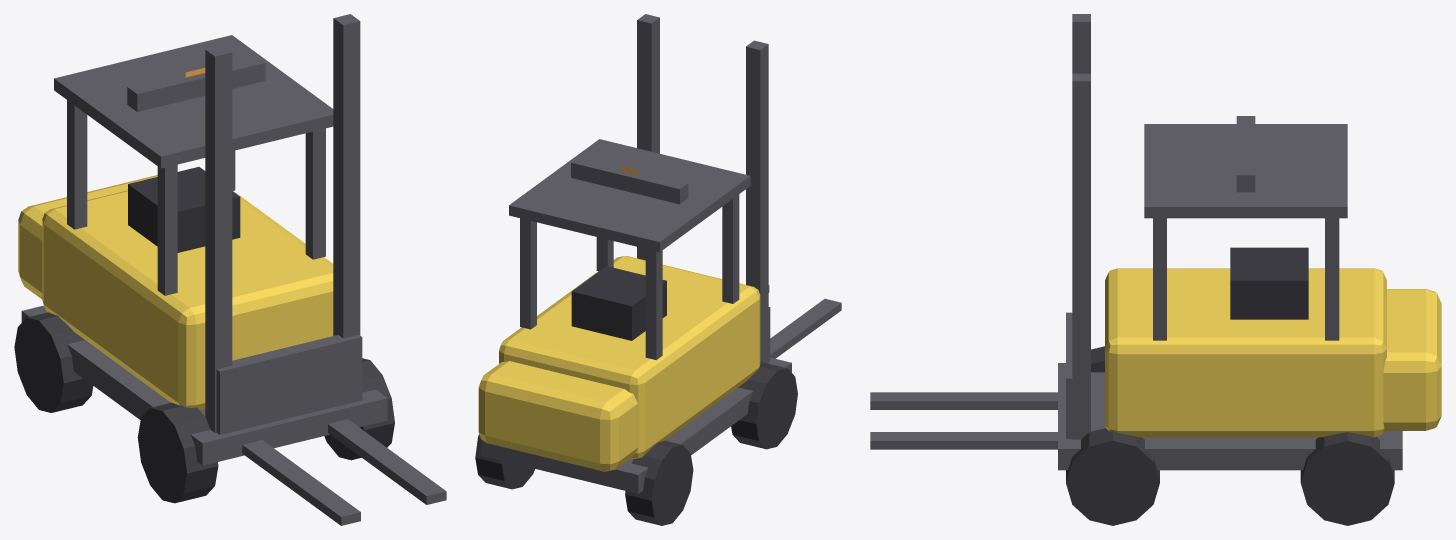
Rendered from bt-hw-forklift.glb.
3 renders of one model, left to right at view 1: azimuth 30°, elevation 25°; view 2: azimuth 150°, elevation 25°; view 3: azimuth 270°, elevation 25°, orthographic. The views are drawn at different scales.
Parts seen in each view (by area): view 1: bt-hw-forklift_body, bt-hw-forklift_cabroof, bt-hw-forklift_carriage, bt-hw-forklift_mast-1, bt-hw-forklift_mast1, bt-hw-forklift_base, bt-hw-forklift_wh-0.62_0.75, bt-hw-forklift_wh-0.62_-0.75, bt-hw-forklift_seat, bt-hw-forklift_fork-1, bt-hw-forklift_fork1, bt-hw-forklift_lightbar (+5 smaller); view 2: bt-hw-forklift_body, bt-hw-forklift_cabroof, bt-hw-forklift_rear, bt-hw-forklift_mast-1, bt-hw-forklift_base, bt-hw-forklift_seat, bt-hw-forklift_wh-0.62_-0.75, bt-hw-forklift_wh-0.62_0.75, bt-hw-forklift_mast1, bt-hw-forklift_lightbar, bt-hw-forklift_cabpost-1_-1, bt-hw-forklift_cabpost-1_1 (+4 smaller); view 3: bt-hw-forklift_body, bt-hw-forklift_cabroof, bt-hw-forklift_base, bt-hw-forklift_rear, bt-hw-forklift_wh0.62_0.75, bt-hw-forklift_wh0.62_-0.75, bt-hw-forklift_mast1, bt-hw-forklift_seat, bt-hw-forklift_fork-1, bt-hw-forklift_fork1, bt-hw-forklift_cabpost1_-1, bt-hw-forklift_cabpost1_1 (+3 smaller).
Boxes of the visible parts, x1,y1,x2,y2 form: bt-hw-forklift_body: (42,190,333,410); bt-hw-forklift_cabroof: (54,35,333,168); bt-hw-forklift_carriage: (216,334,362,434); bt-hw-forklift_mast-1: (205,45,232,432); bt-hw-forklift_mast1: (333,14,360,338); bt-hw-forklift_base: (21,305,387,465); bt-hw-forklift_wh-0.62_0.75: (137,402,218,503); bt-hw-forklift_wh-0.62_-0.75: (14,312,93,412); bt-hw-forklift_seat: (128,167,240,252); bt-hw-forklift_fork-1: (242,440,360,525); bt-hw-forklift_fork1: (328,419,446,504); bt-hw-forklift_lightbar: (127,56,265,111); bt-hw-forklift_body: (499,256,760,458); bt-hw-forklift_cabroof: (509,139,750,252); bt-hw-forklift_rear: (478,361,637,471); bt-hw-forklift_mast-1: (746,40,768,363); bt-hw-forklift_base: (481,357,791,493); bt-hw-forklift_seat: (571,266,666,340); bt-hw-forklift_wh-0.62_-0.75: (625,440,693,525); bt-hw-forklift_wh-0.62_0.75: (731,362,797,449); bt-hw-forklift_mast1: (637,14,659,260); bt-hw-forklift_lightbar: (571,156,688,204); bt-hw-forklift_cabpost-1_-1: (645,249,662,360); bt-hw-forklift_cabpost-1_1: (722,194,739,303); bt-hw-forklift_body: (1105,268,1386,437); bt-hw-forklift_cabroof: (1144,124,1347,218); bt-hw-forklift_base: (1058,363,1402,470); bt-hw-forklift_rear: (1383,289,1441,430); bt-hw-forklift_wh0.62_0.75: (1066,428,1159,525); bt-hw-forklift_wh0.62_-0.75: (1300,432,1394,525); bt-hw-forklift_mast1: (1072,73,1090,439); bt-hw-forklift_seat: (1230,247,1308,319); bt-hw-forklift_fork-1: (870,392,1057,409); bt-hw-forklift_fork1: (870,432,1057,449); bt-hw-forklift_cabpost1_-1: (1325,218,1339,340); bt-hw-forklift_cabpost1_1: (1153,218,1166,340).
Bounding box in the file's own units: 1.46 × 3.03 × 3.65.
